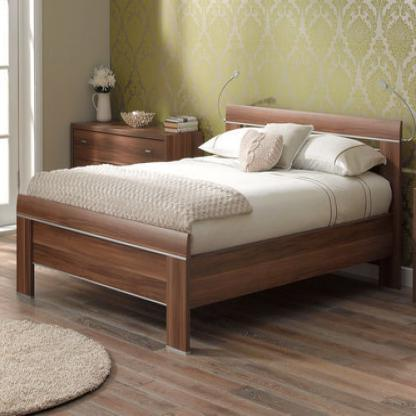bed: (10, 112, 407, 364)
table: (67, 116, 201, 165)
